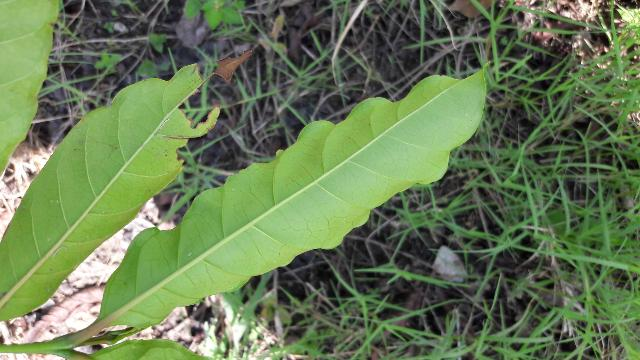healthy: (97, 76, 483, 330)
